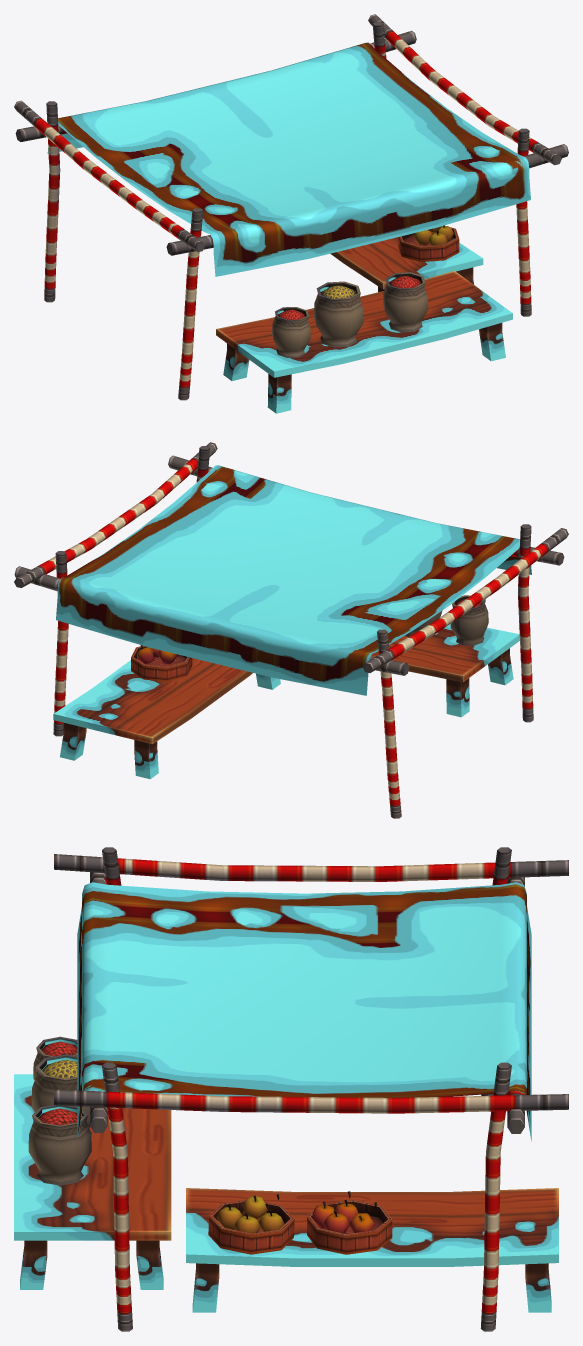
Rendered from MarketStall2.FBX.
3 renders of one model, top to bottom at view 1: azimuth 30°, elevation 25°; view 2: azimuth 150°, elevation 25°; view 3: azimuth 270°, elevation 25°, orthographic. The views are drawn at different scales.
Parts seen in each view (by area): view 1: MarketStall2; view 2: MarketStall2; view 3: MarketStall2.
Part boxes in pixels (box(x1,y1,x2,y2)): MarketStall2: box(14, 14, 568, 413); MarketStall2: box(14, 442, 568, 818); MarketStall2: box(14, 847, 568, 1331).
Bounding box in the file's own units: 171 × 78.46 × 153.
Materials: 1 (1 with a texture image).
